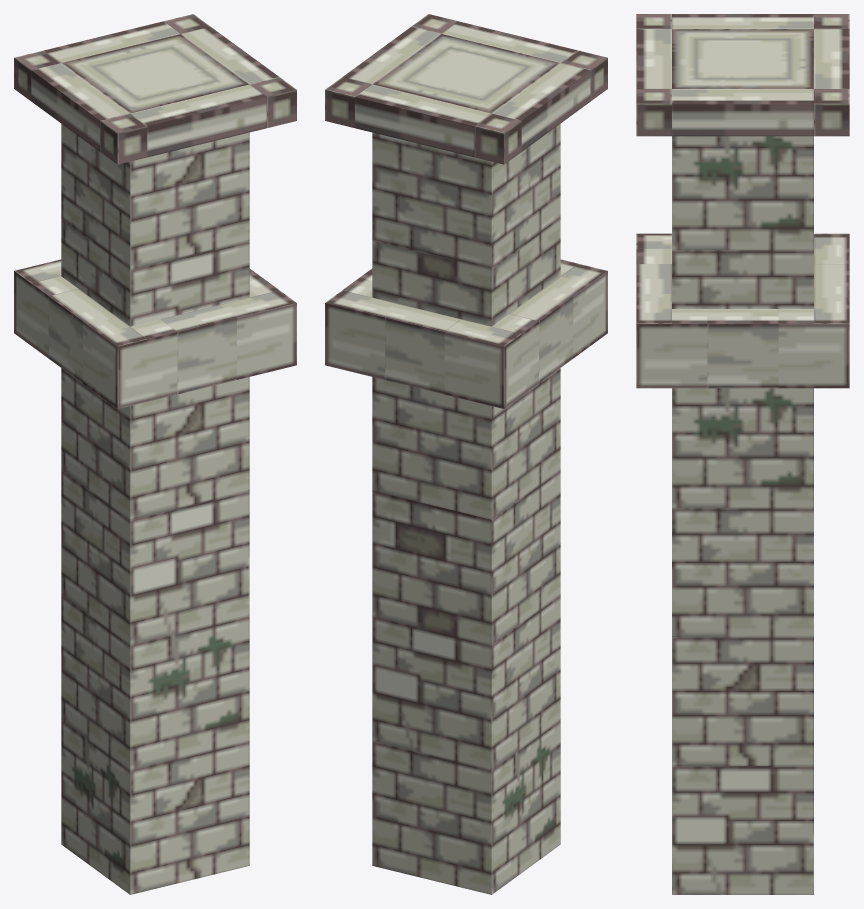
File: stone_pillar.fbx
3 renders of one model, left to right at view 1: azimuth 30°, elevation 25°; view 2: azimuth 150°, elevation 25°; view 3: azimuth 270°, elevation 25°, orthographic. The views are drawn at different scales.
Parts seen in each view (by area): view 1: stone_pillar; view 2: stone_pillar; view 3: stone_pillar.
Boxes of the visible parts, left/top/right/bottom form: stone_pillar: left=14, top=14, right=296, bottom=894; stone_pillar: left=325, top=14, right=607, bottom=894; stone_pillar: left=636, top=14, right=849, bottom=894.
Bounding box in the file's own units: 150 × 625 × 150.
